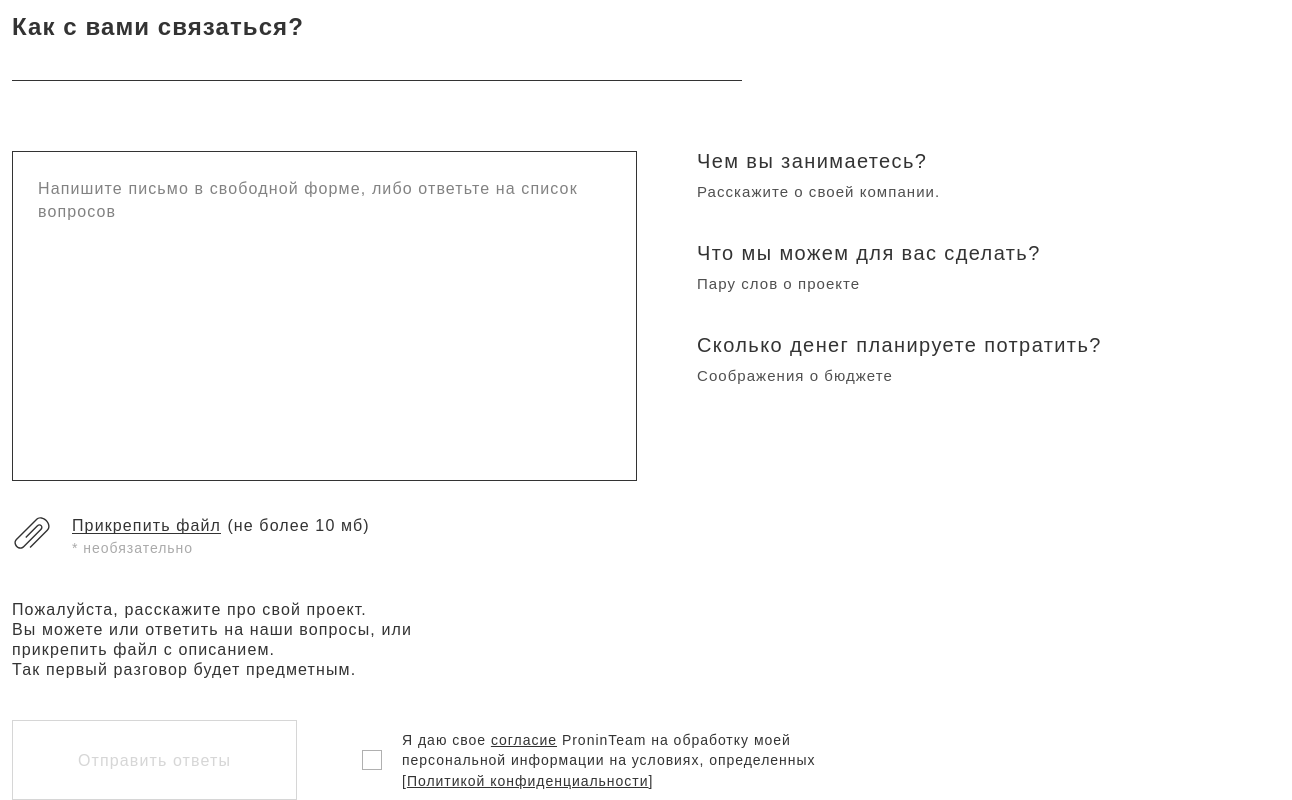
Test: Submit Button › is enabled, if checkbox checked
(page scrolled)
What coordinates should you click on to do the following:
click the checkbox with test id "agreeCheck"
I would click on:
 (372, 760)
Its box is top-left (362, 750), bottom-right (382, 770).
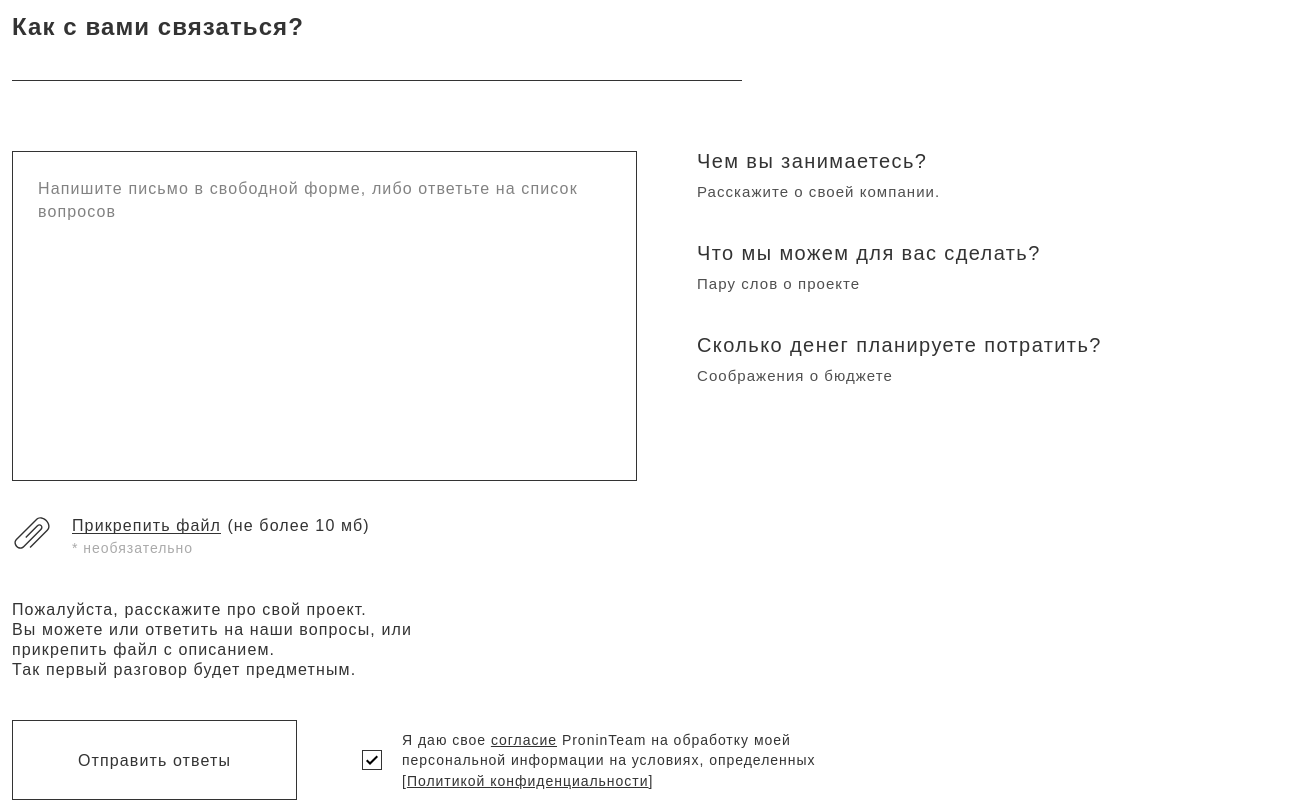
expect the button with test id "submitBtn" is enabled: met, box top-left (12, 720), bottom-right (297, 799)
